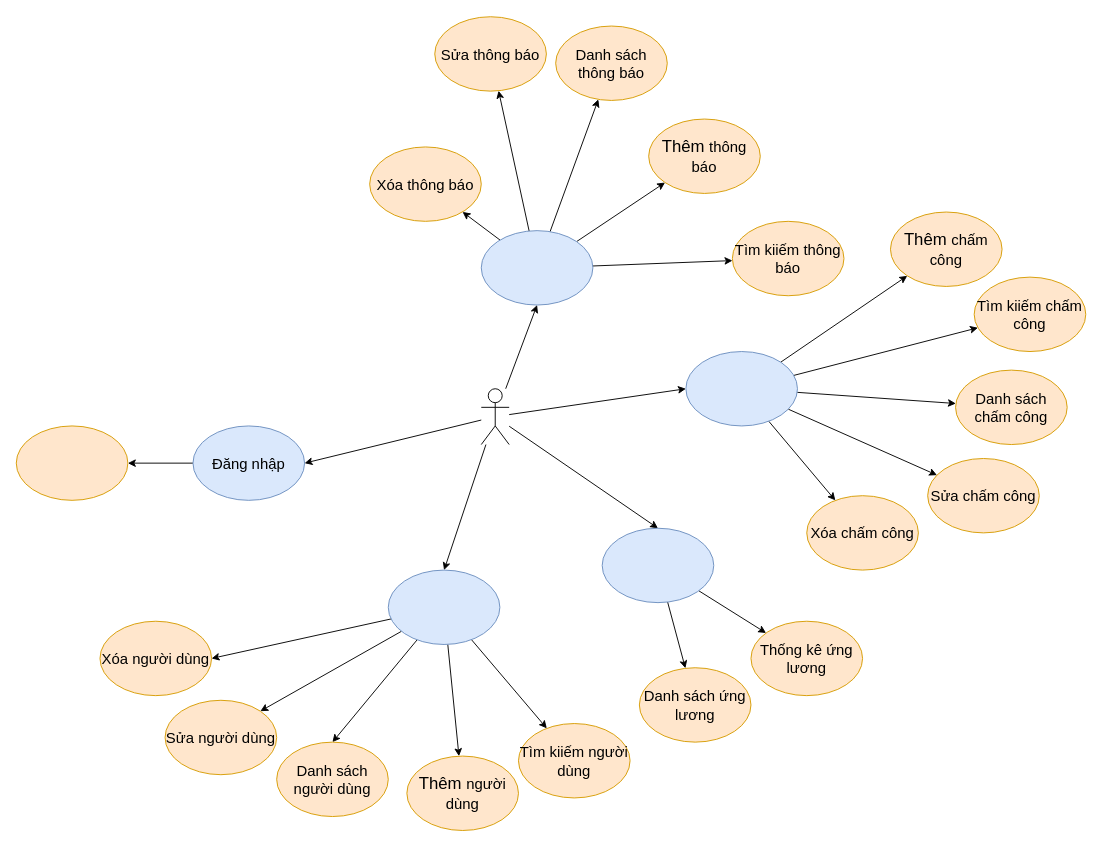
This 1102x846 diagram has some shape labels left out. The centre of each missing label's shape, as x and y in pixels:
"Bộ phận quản lý công ty" belongs at point 494,416.
"Quản lý người dùng nhân viên" belongs at point 443,606.
"Quản lý thông nội bộ" belongs at point 536,267.
"Quản lý ứng lương" belongs at point 657,565.
"Quảng lý chấm công" belongs at point 741,388.
"Đăng xuất" belongs at point 71,462.
